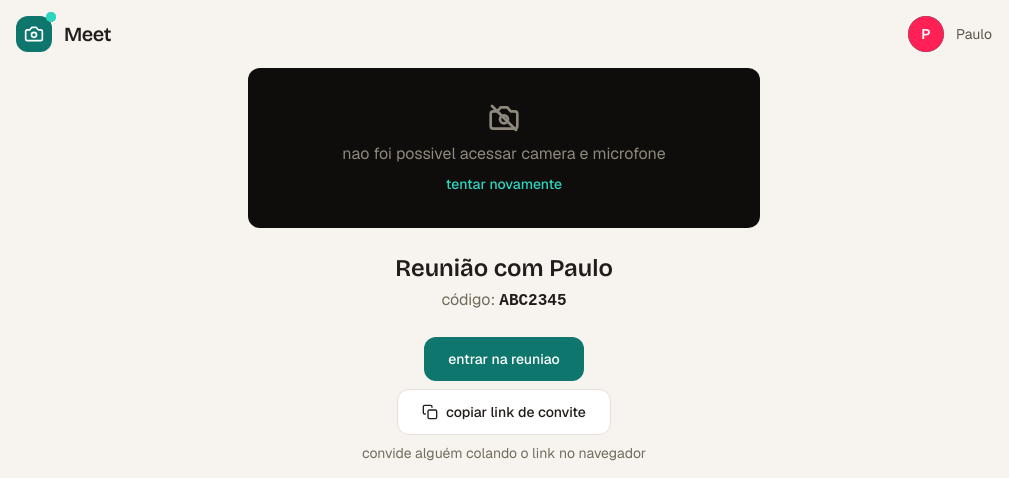
Test: RoomPage › copia o link de convite
The width and height of the screenshot is (1009, 478).
Check: the heading "Reunião com Paulo" is shown, box [395, 252, 613, 284]
Click the button "copiar link de convite": [504, 412] box [397, 389, 611, 435]
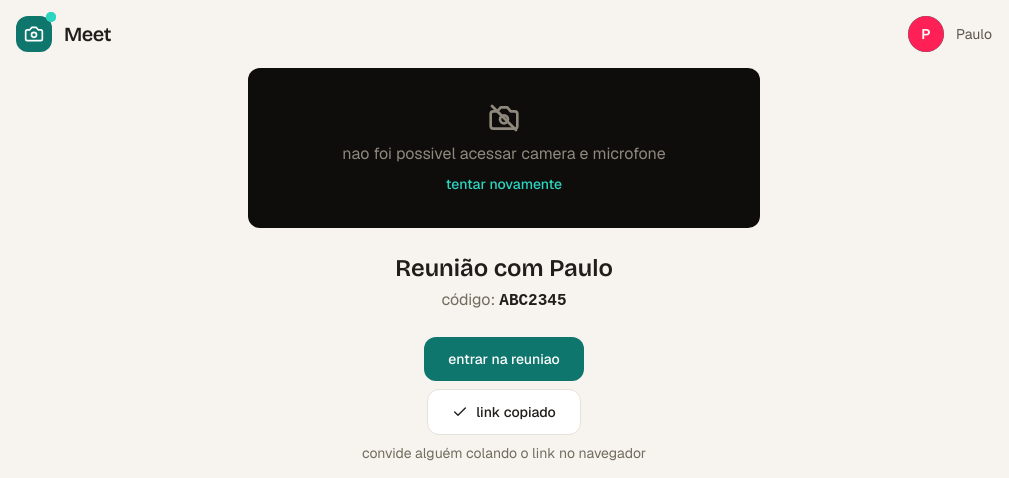
Check: the button "link copiado" is shown, box [427, 389, 581, 435]
